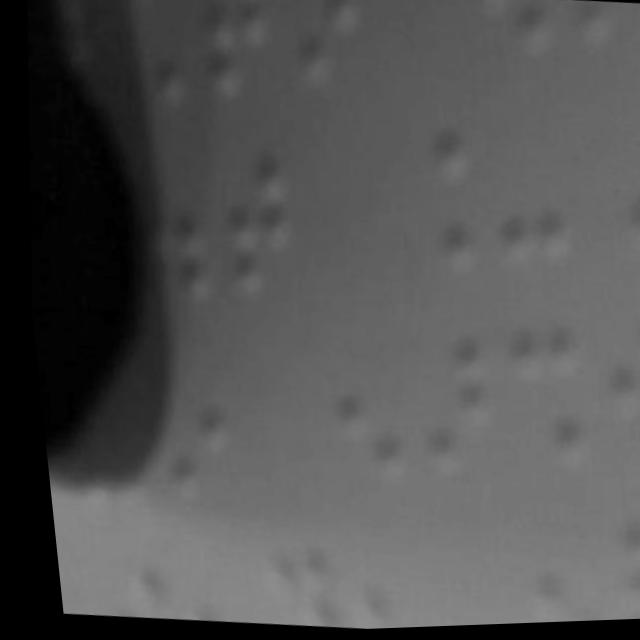braiile: (373, 131, 483, 281), (308, 334, 408, 498), (397, 330, 494, 493), (488, 329, 587, 488), (199, 152, 296, 307), (479, 142, 577, 294), (185, 0, 280, 122), (577, 320, 640, 489), (572, 116, 640, 269), (277, 0, 371, 109), (587, 523, 640, 624)
